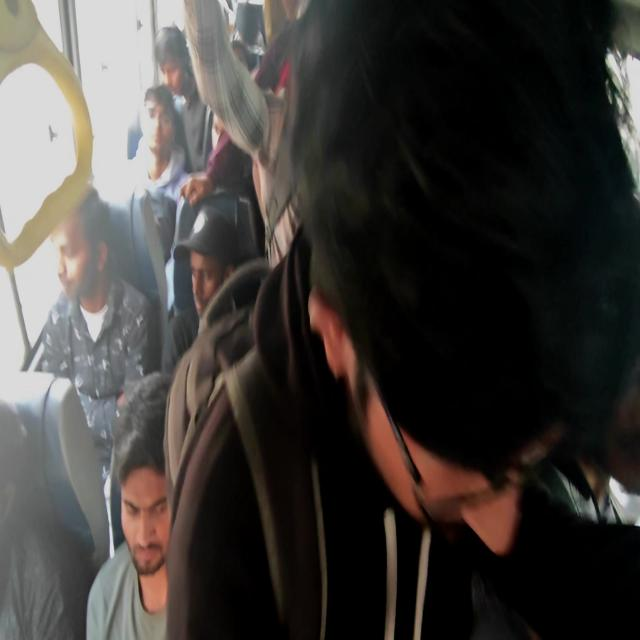person: (305, 73, 632, 623), (121, 466, 172, 604), (49, 181, 111, 294), (0, 411, 48, 540), (195, 210, 253, 287), (224, 40, 258, 121), (146, 102, 182, 175), (285, 60, 308, 148), (153, 34, 186, 92)
